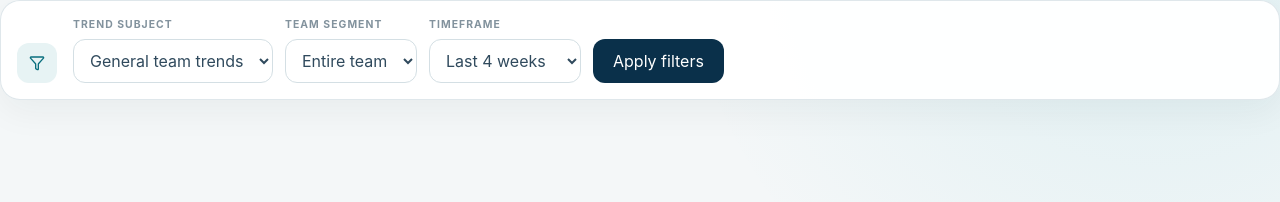
Scenario: dashboard timeframe filters › reveals and constrains custom dates immediately
expect the field labelled "From" is not shown: met
Select "Custom dates" in the dropdown labelled "Timeframe" at (505, 61), box [429,39,581,83]
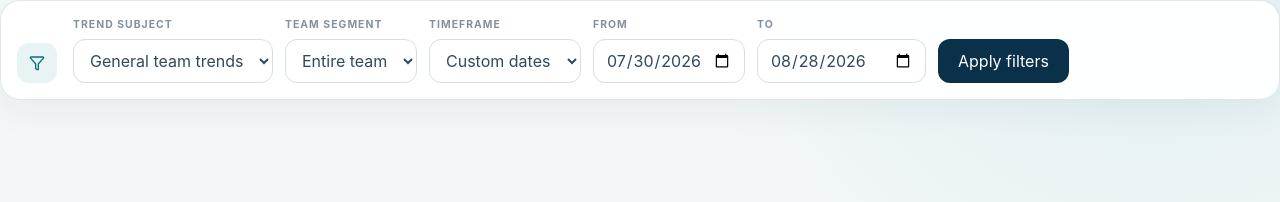
expect the date field labelled "From" holds "2026-07-30": met, box [593,39,745,83]
expect the date field labelled "To" holds "2026-08-28": met, box [757,39,926,83]
